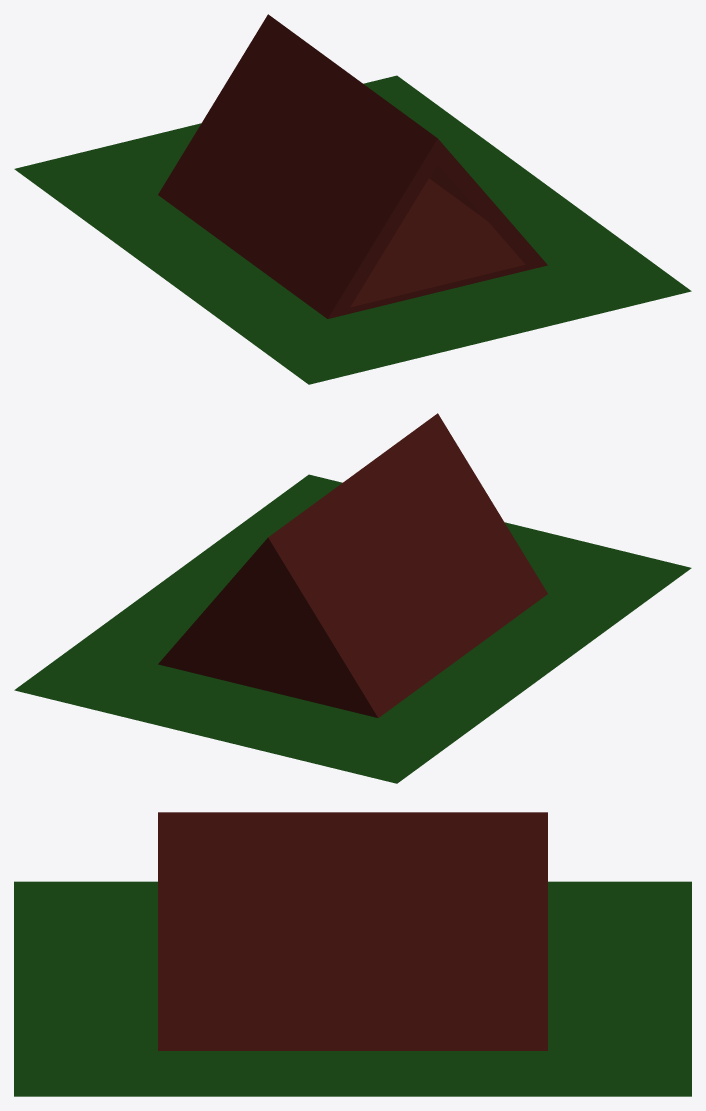
File: tent.glb
The picture shows the model from 3 angles, top to bottom: view 1: azimuth 30°, elevation 25°; view 2: azimuth 150°, elevation 25°; view 3: azimuth 270°, elevation 25°; orthographic projection. The views are drawn at different scales.
Visible parts, largest first — view 1: Tent; view 2: Tent; view 3: Tent.
Boxes of the visible parts, <box> form: Tent: <box>14,14,691,384</box>; Tent: <box>14,413,691,783</box>; Tent: <box>14,812,691,1096</box>.
Size of the model in its own units: 4.16 by 1.6 by 5.55.
